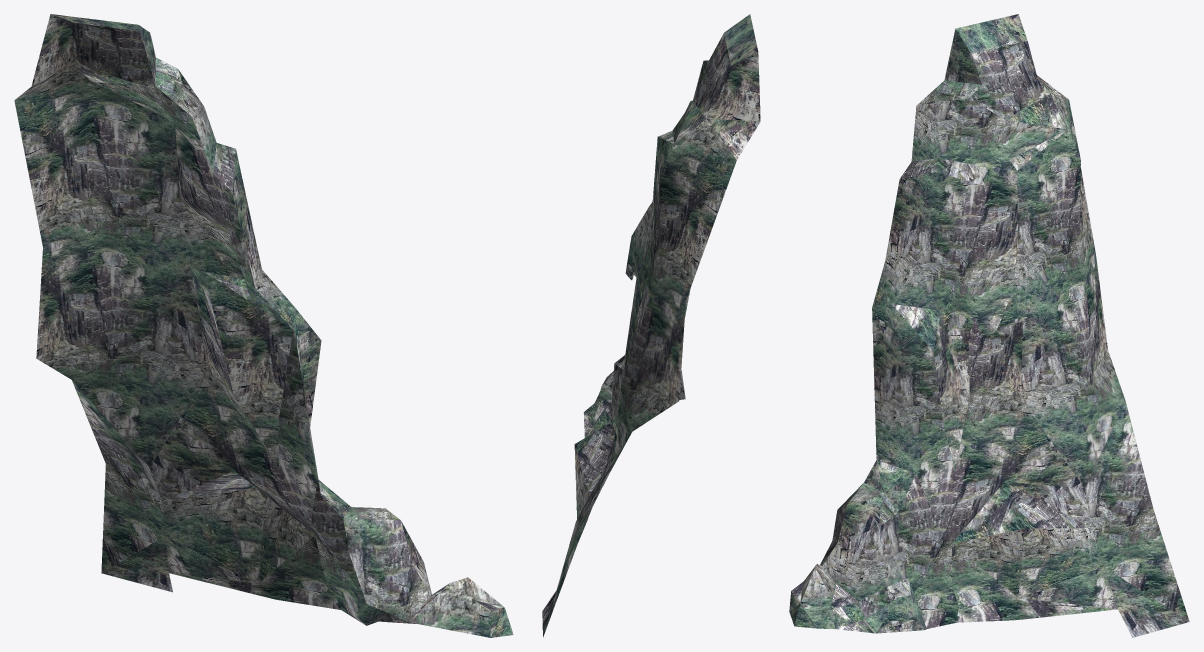
The picture shows the model from 3 angles, left to right: view 1: azimuth 30°, elevation 25°; view 2: azimuth 150°, elevation 25°; view 3: azimuth 270°, elevation 25°; orthographic projection. The views are drawn at different scales.
Visible parts, largest first — view 1: Object71; view 2: Object71; view 3: Object71.
Part boxes in pixels (left/top/right/bottom): Object71: left=14, top=14, right=513, bottom=637; Object71: left=542, top=14, right=760, bottom=637; Object71: left=789, top=14, right=1189, bottom=637.
Size of the model in its own units: 699 by 1354 by 890.
